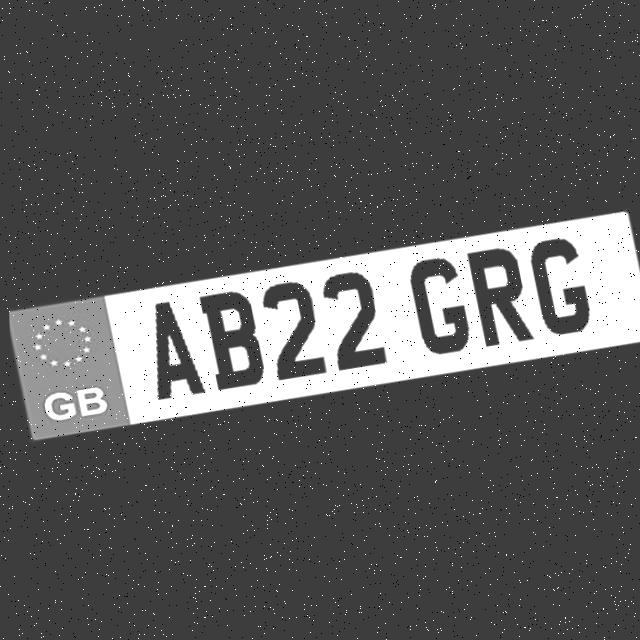license-plates: (9, 210, 640, 439)
